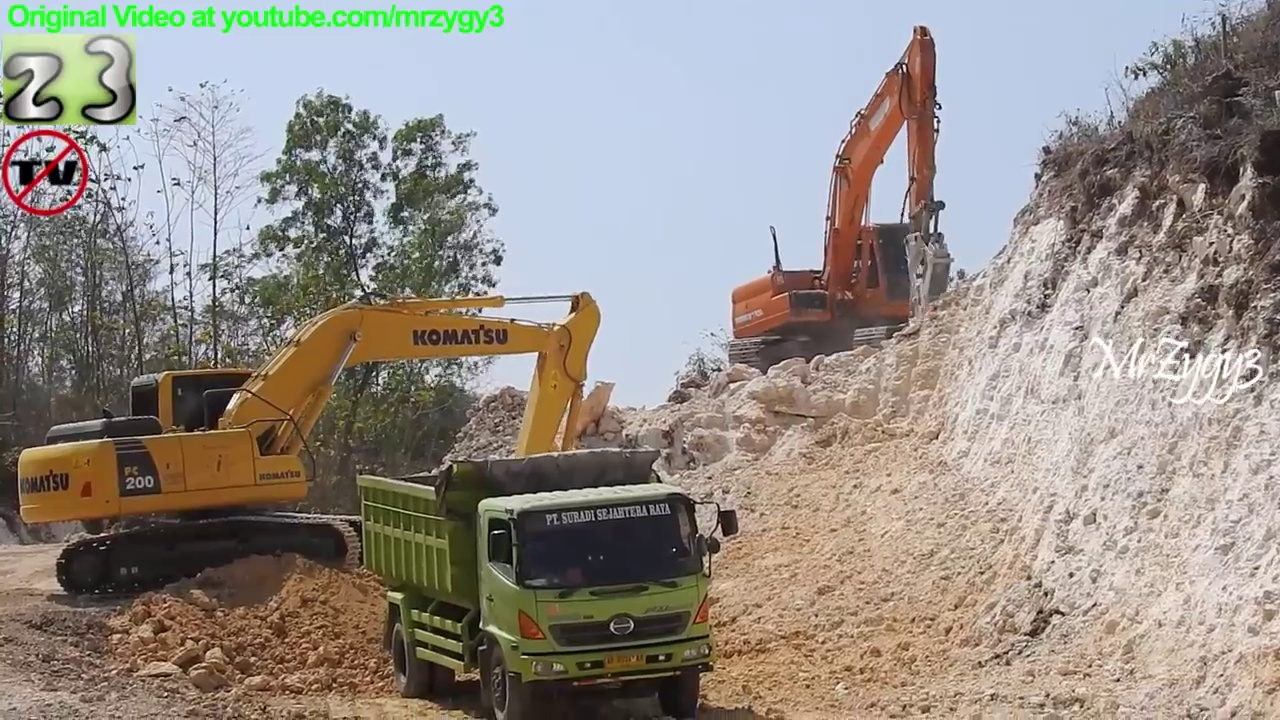excavator: (15, 285, 607, 621), (723, 21, 968, 382)
truck: (350, 443, 749, 720)
